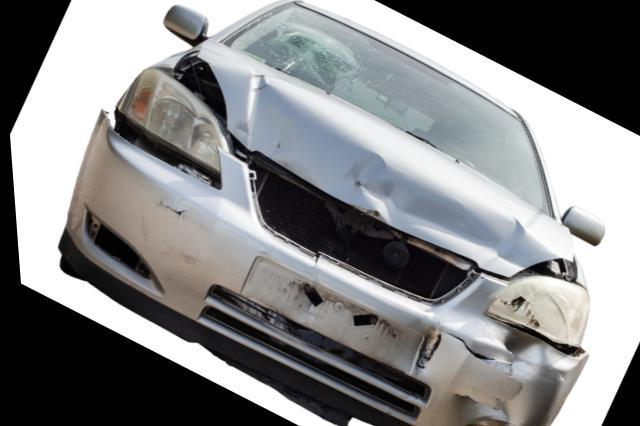crack: (439, 332, 491, 362), (449, 394, 493, 412), (307, 255, 316, 269)
dent: (229, 76, 550, 280), (495, 334, 536, 426), (406, 327, 435, 380)
dislocated part: (60, 109, 584, 426), (168, 41, 574, 283)
glass shatter: (223, 4, 549, 219)
lamp broken: (481, 276, 583, 350)
